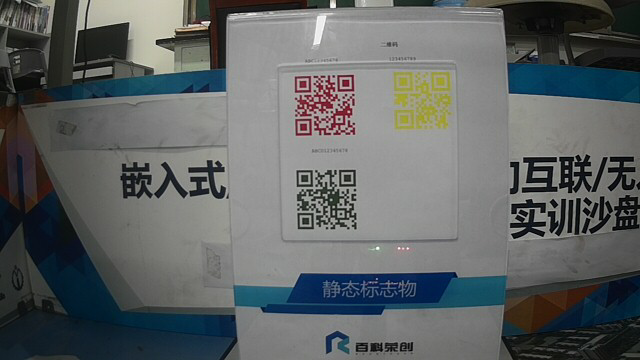qrcode: (292, 165, 360, 233), (291, 71, 358, 139), (390, 68, 456, 132)
